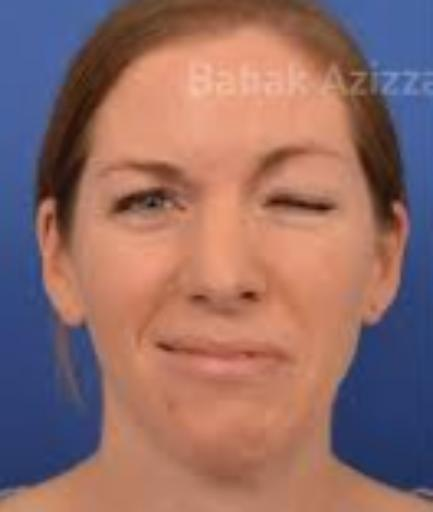left_eye: (265, 195, 338, 221)
left_lip_corner: (276, 348, 302, 372)
right_eye: (112, 187, 191, 220)
right_lip_corner: (148, 334, 176, 358)
